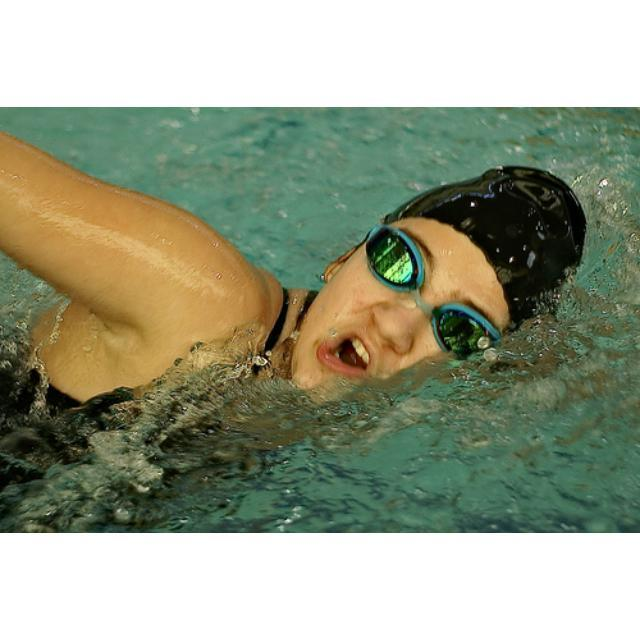human: (1, 109, 632, 472)
